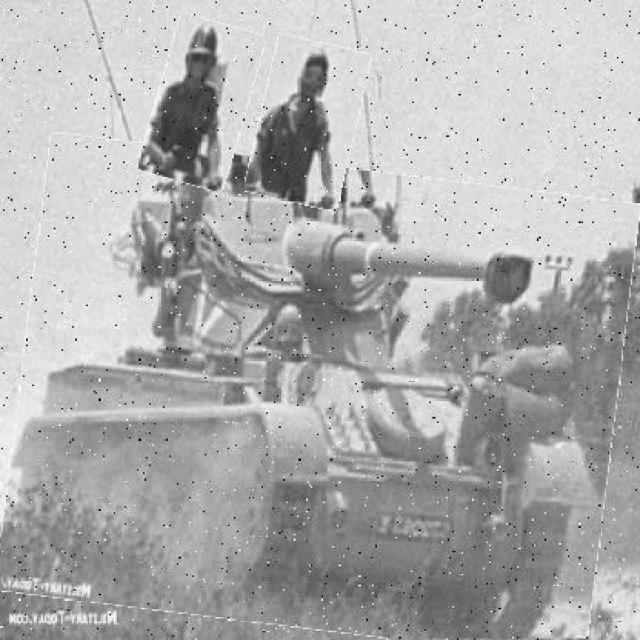Person: (253, 38, 364, 209), (149, 20, 256, 191)
Tank: (9, 151, 630, 640)
